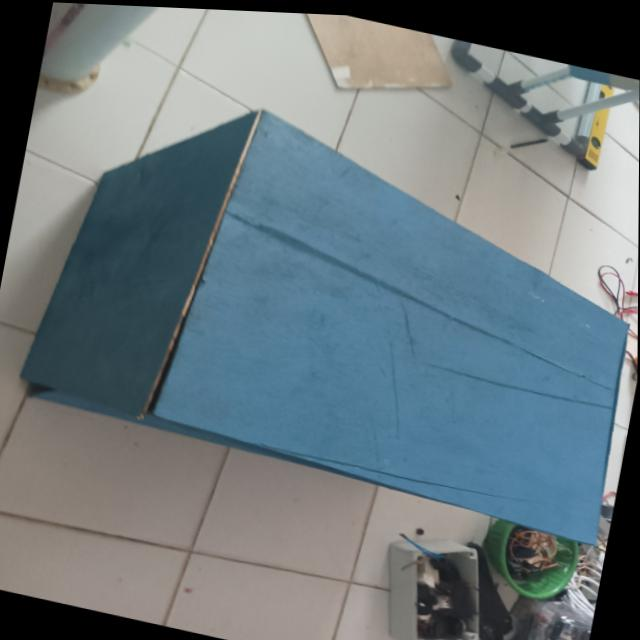blue_box: (0, 91, 639, 589)
